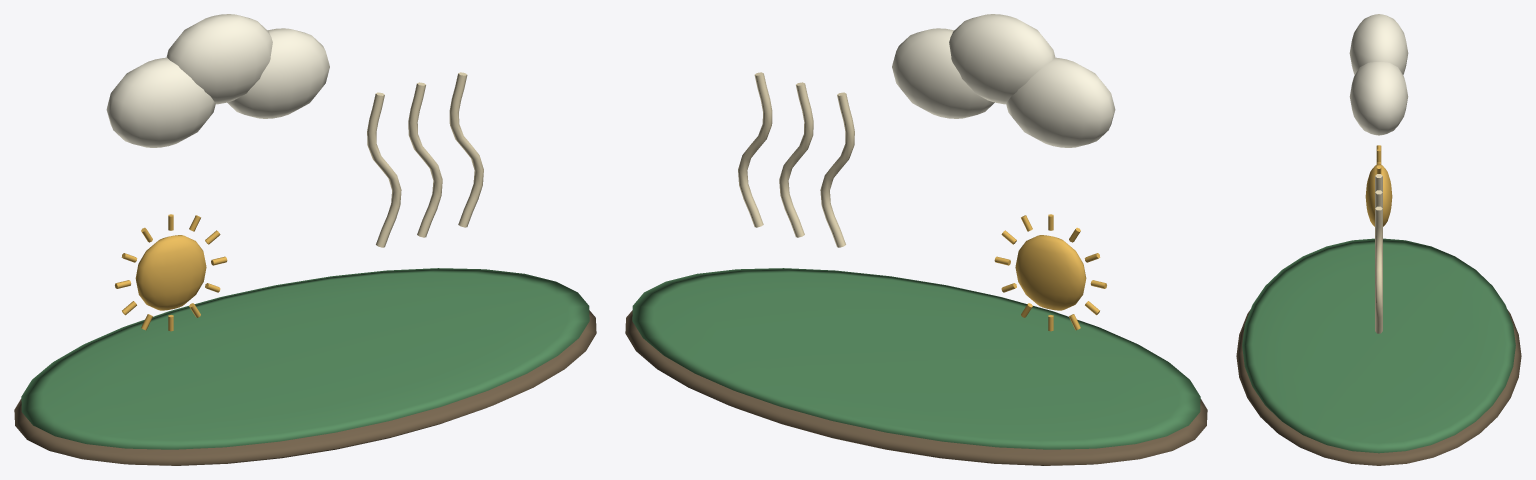
Rendered from sky-air.glb.
3 views of the same model, side by side, from view 1: azimuth 30°, elevation 25°; view 2: azimuth 150°, elevation 25°; view 3: azimuth 270°, elevation 25° (orthographic). The views are drawn at different scales.
Visible parts, largest first — view 1: sky-air_surface_01, sky-air_surface_02, sky-air_surface_00, sky-air_surface_04, sky-air_surface_03; view 2: sky-air_surface_01, sky-air_surface_02, sky-air_surface_00, sky-air_surface_04, sky-air_surface_03; view 3: sky-air_surface_01, sky-air_surface_02, sky-air_surface_00, sky-air_surface_03, sky-air_surface_04.
Boxes of the visible parts, box(x1,y1,x2,y2) form: sky-air_surface_01: box(21, 268, 589, 449); sky-air_surface_02: box(106, 14, 329, 147); sky-air_surface_00: box(14, 310, 596, 465); sky-air_surface_04: box(115, 214, 227, 331); sky-air_surface_03: box(367, 72, 483, 247); sky-air_surface_01: box(632, 268, 1200, 449); sky-air_surface_02: box(892, 14, 1115, 147); sky-air_surface_00: box(625, 310, 1207, 465); sky-air_surface_04: box(994, 214, 1106, 331); sky-air_surface_03: box(738, 72, 854, 247); sky-air_surface_01: box(1242, 238, 1515, 453); sky-air_surface_02: box(1349, 14, 1408, 135); sky-air_surface_00: box(1236, 309, 1521, 465); sky-air_surface_03: box(1375, 174, 1382, 333); sky-air_surface_04: box(1365, 145, 1392, 226).
Bounding box in the file's own units: 4.56 × 3.06 × 2.5.
